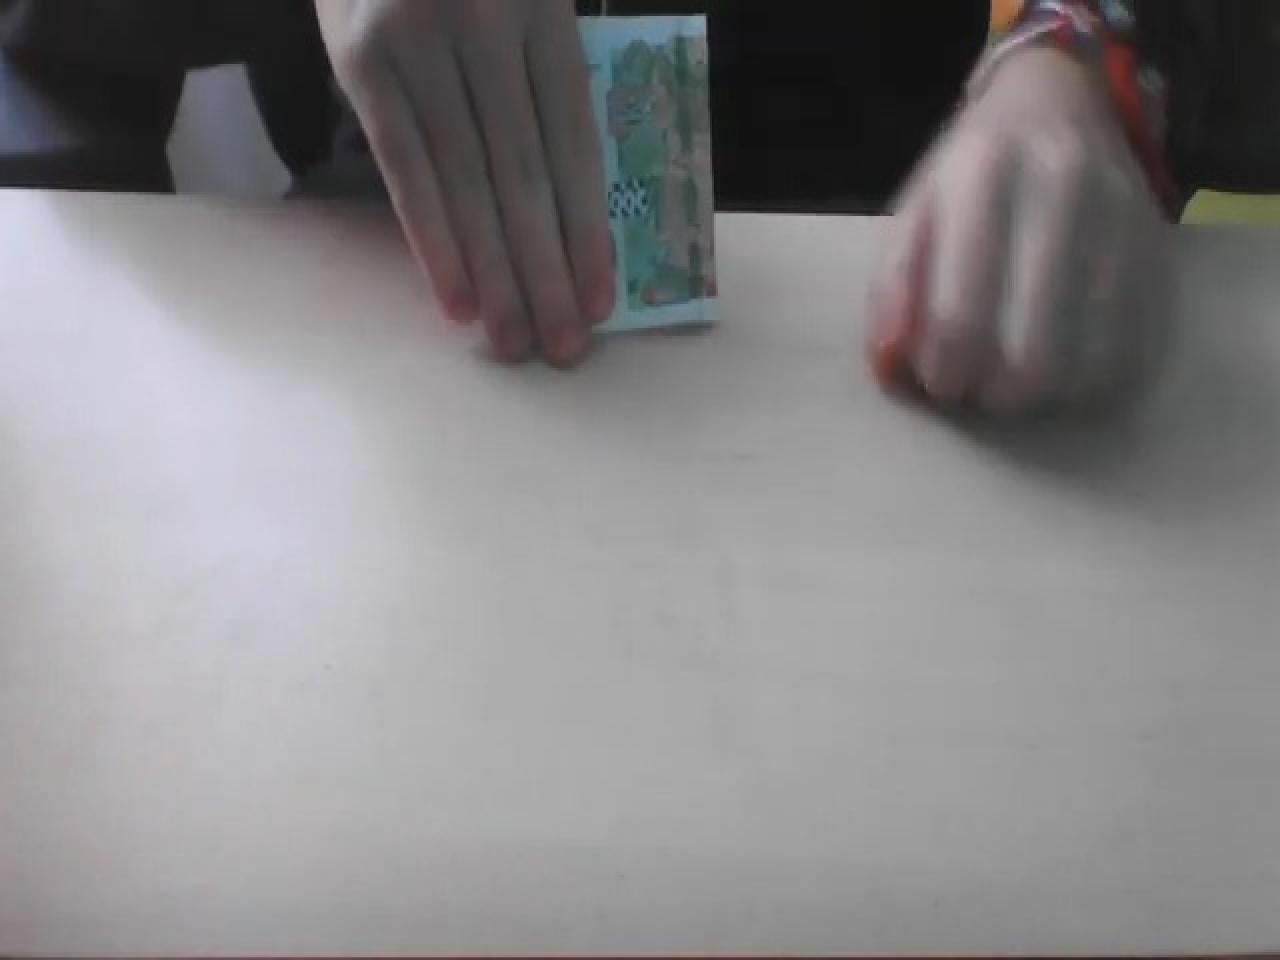100leva: (578, 0, 718, 331)
